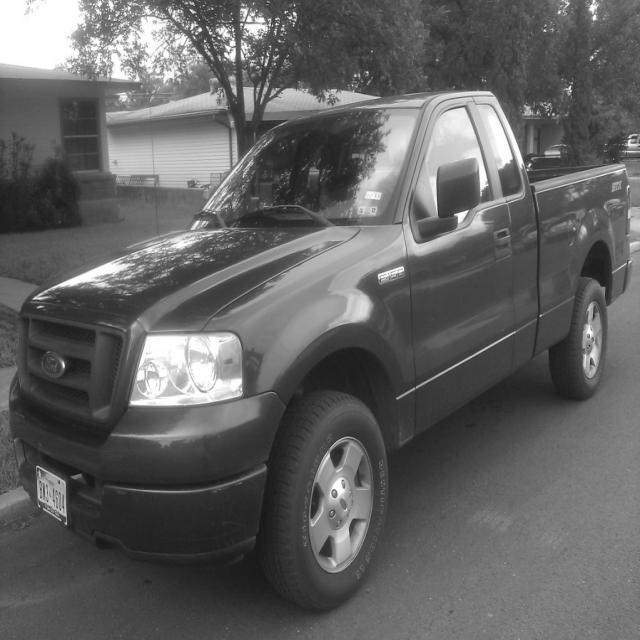car: (9, 87, 632, 612)
plat_license: (34, 464, 68, 526)
